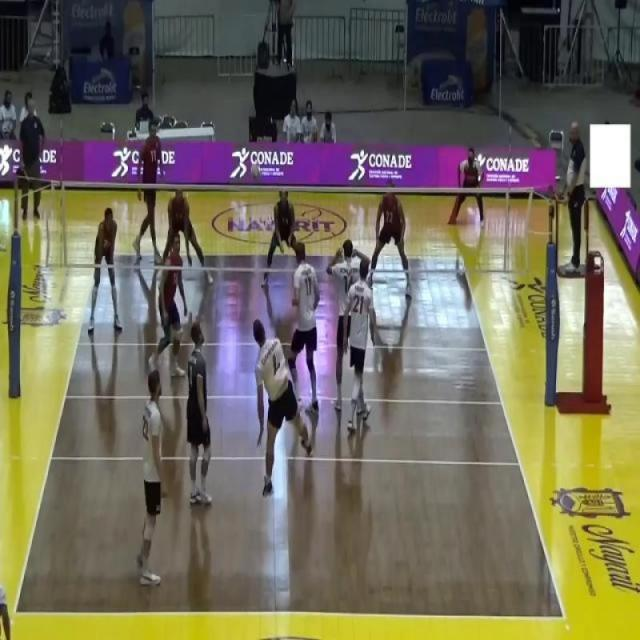volleyball: (250, 162, 261, 181)
